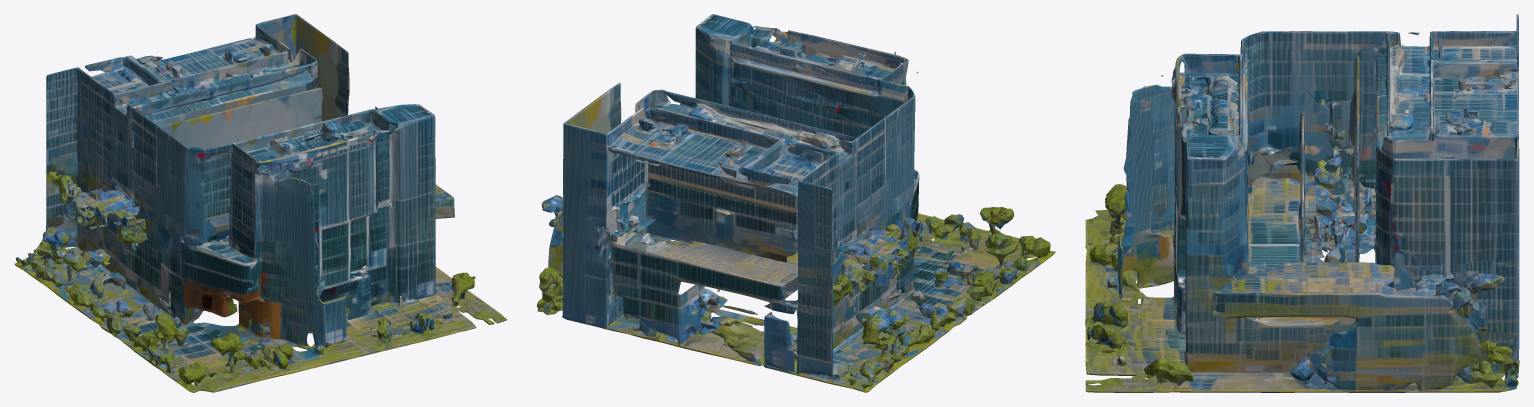
File: Haiju_Hunyuan3D2mv_textured.obj
3 views of the same model, side by side, from view 1: azimuth 30°, elevation 25°; view 2: azimuth 150°, elevation 25°; view 3: azimuth 270°, elevation 25° (orthographic). The views are drawn at different scales.
Parts seen in each view (by area): view 1: Haiju_Hunyuan3D2mv_textured; view 2: Haiju_Hunyuan3D2mv_textured; view 3: Haiju_Hunyuan3D2mv_textured.
Part boxes in pixels (left/top/right/bottom): Haiju_Hunyuan3D2mv_textured: left=14, top=14, right=507, bottom=392; Haiju_Hunyuan3D2mv_textured: left=536, top=14, right=1055, bottom=392; Haiju_Hunyuan3D2mv_textured: left=1085, top=14, right=1519, bottom=392.
Bounding box in the file's own units: 1.98 × 1.13 × 1.99.
Materials: 1 (1 with a texture image).
